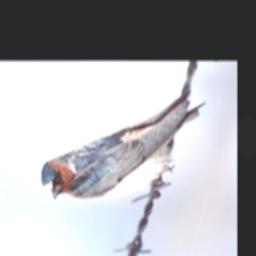Swallow: (35, 77, 213, 211)
